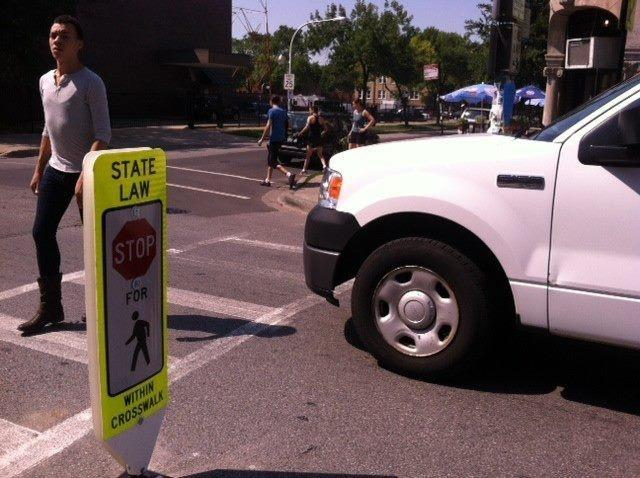car: (278, 111, 352, 162), (458, 108, 491, 133), (421, 113, 429, 120), (397, 109, 404, 117)
truck: (300, 72, 640, 380)
